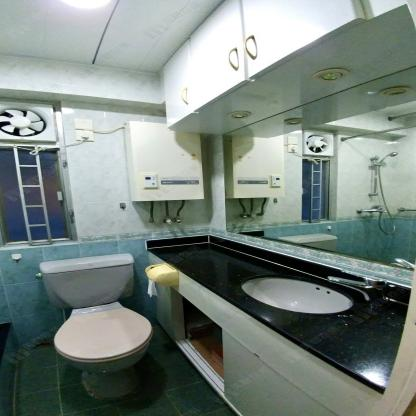Exhaust Fan: (0, 100, 63, 147)
Faucet: (325, 273, 392, 306)
Toilet: (36, 252, 152, 399)
Toilet Sink: (196, 265, 384, 335)
Water Heater: (124, 122, 206, 202)
